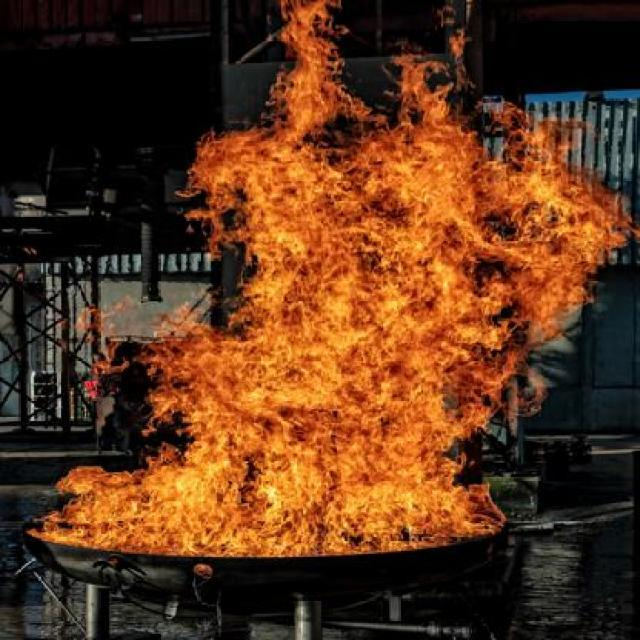Fire: (24, 0, 635, 548)
